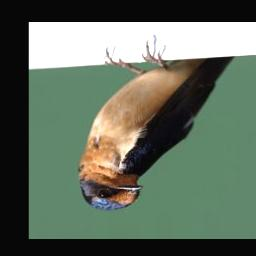Swallow: (80, 41, 235, 212)
